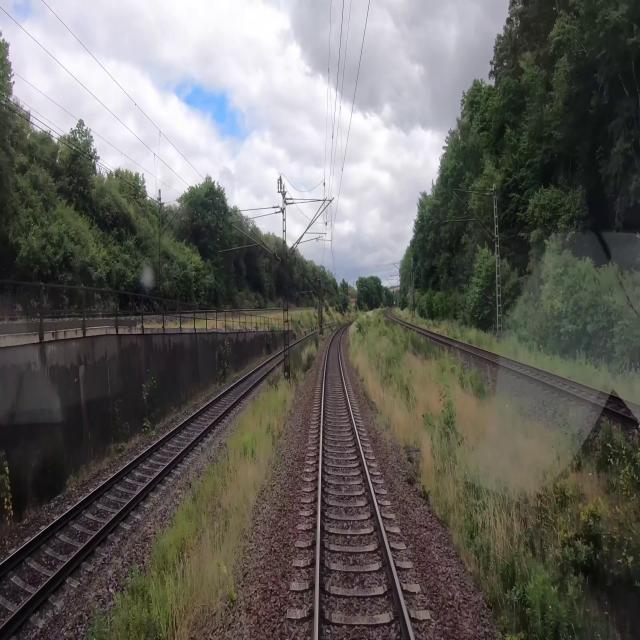Plant: (346, 307, 639, 639), (88, 332, 321, 639)
